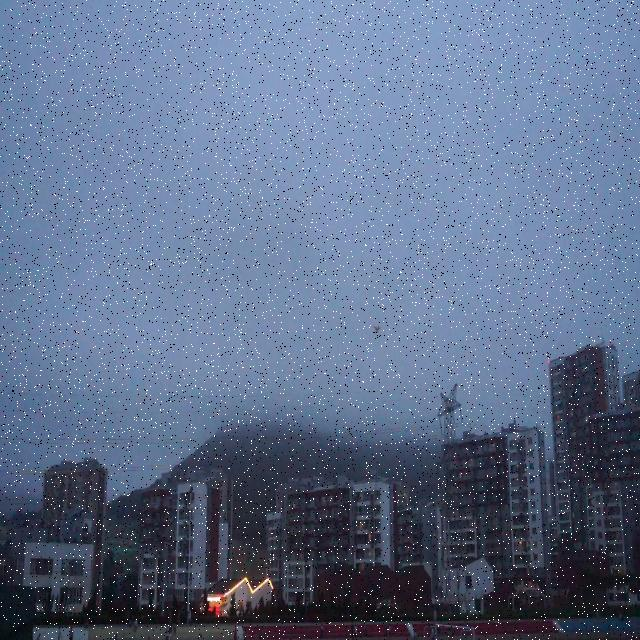UAV: (372, 326, 381, 334)
